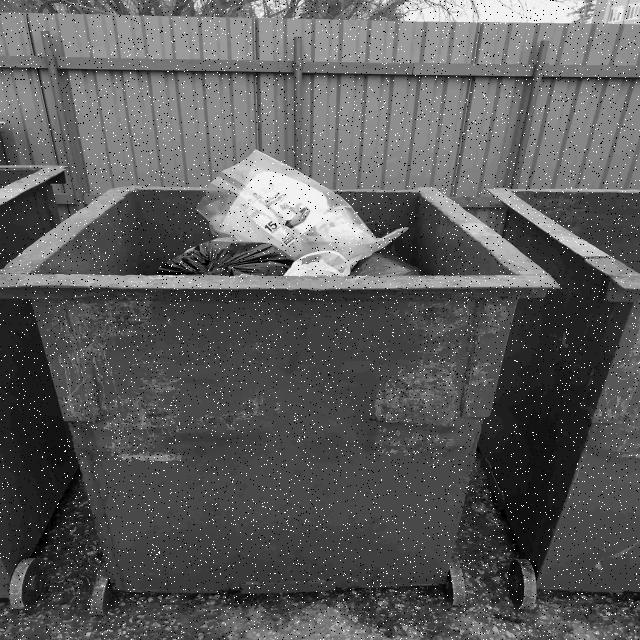Trashcan: (29, 157, 505, 616)
